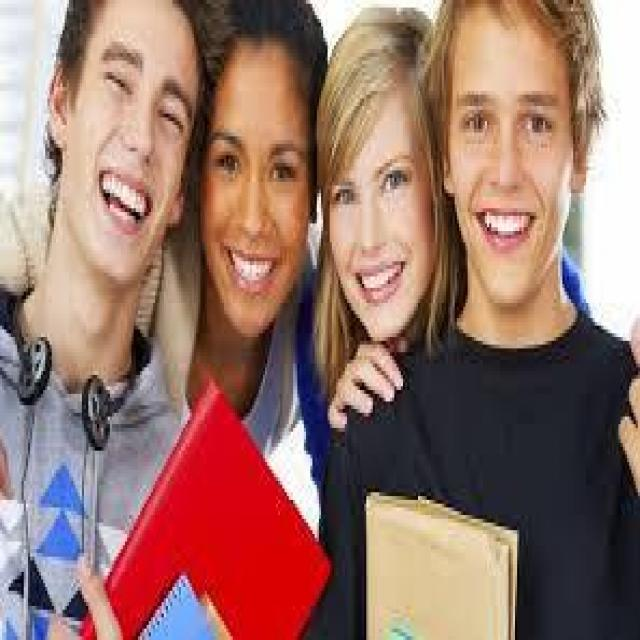person: (416, 31, 631, 598), (28, 0, 172, 621), (190, 8, 319, 614), (312, 4, 440, 466)
